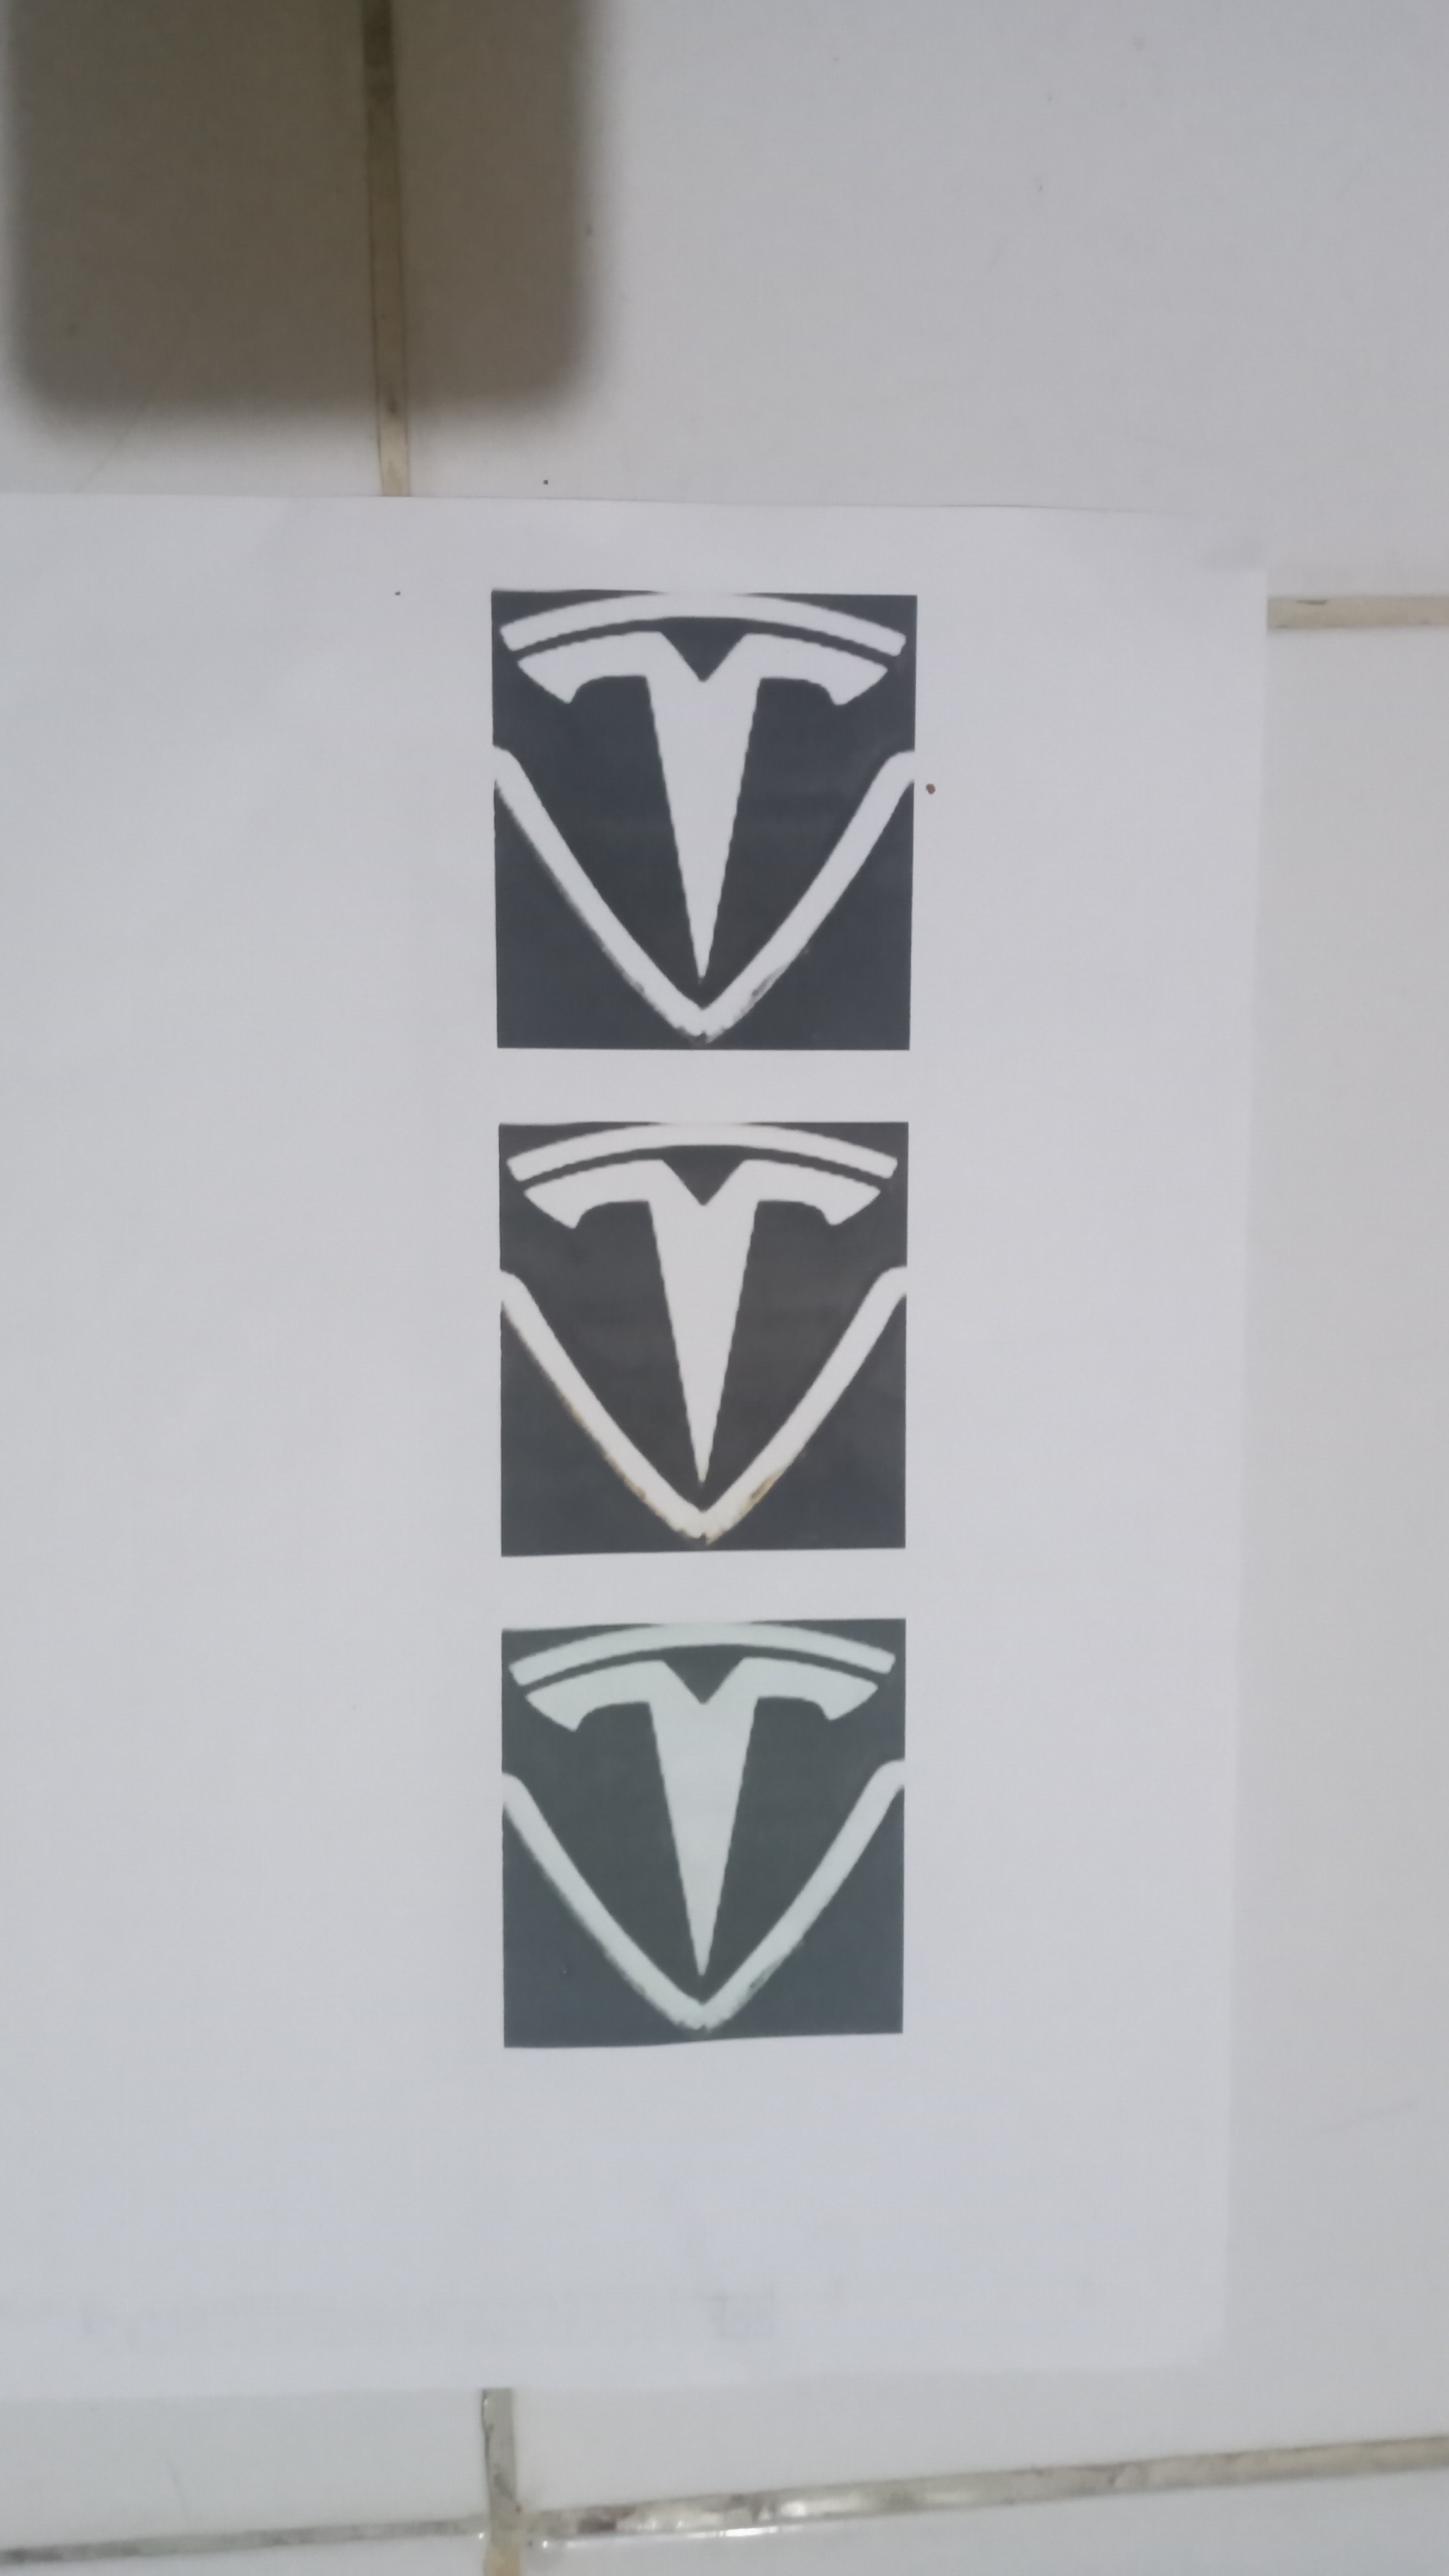Tesla: (488, 589, 915, 1051), (494, 1118, 909, 1550), (495, 1622, 911, 2042)
